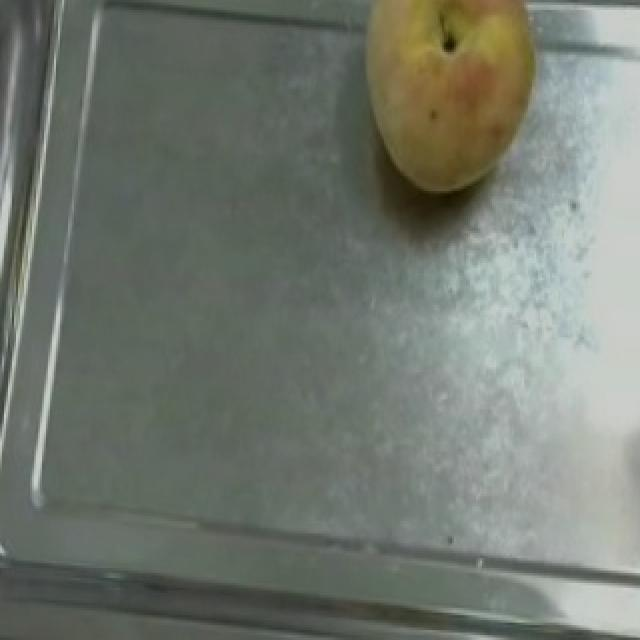Fruit: (338, 0, 554, 206)
